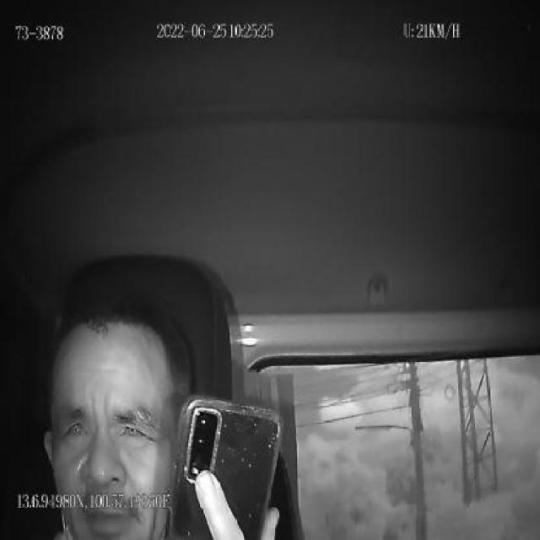phone: (170, 394, 284, 540)
